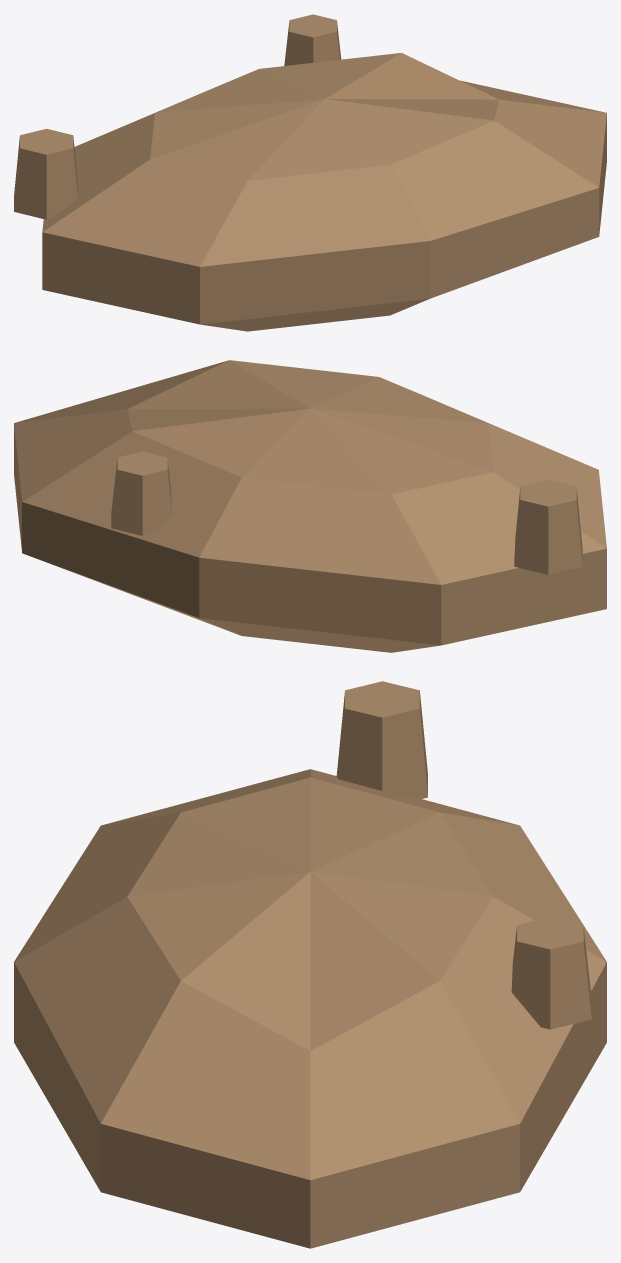
Rendered from prop-bagpipe-bag-blank.fbx.
3 views of the same model, one above another, from view 1: azimuth 30°, elevation 25°; view 2: azimuth 150°, elevation 25°; view 3: azimuth 270°, elevation 25° (orthographic). The views are drawn at different scales.
Visible parts, largest first — view 1: prop-bagpipe-bag-blank; view 2: prop-bagpipe-bag-blank; view 3: prop-bagpipe-bag-blank.
Boxes of the visible parts, <box> form: prop-bagpipe-bag-blank: <box>14,14,606,331</box>; prop-bagpipe-bag-blank: <box>14,360,606,652</box>; prop-bagpipe-bag-blank: <box>14,681,606,1248</box>.
Size of the model in its own units: 38.22 by 12 by 24.73.
